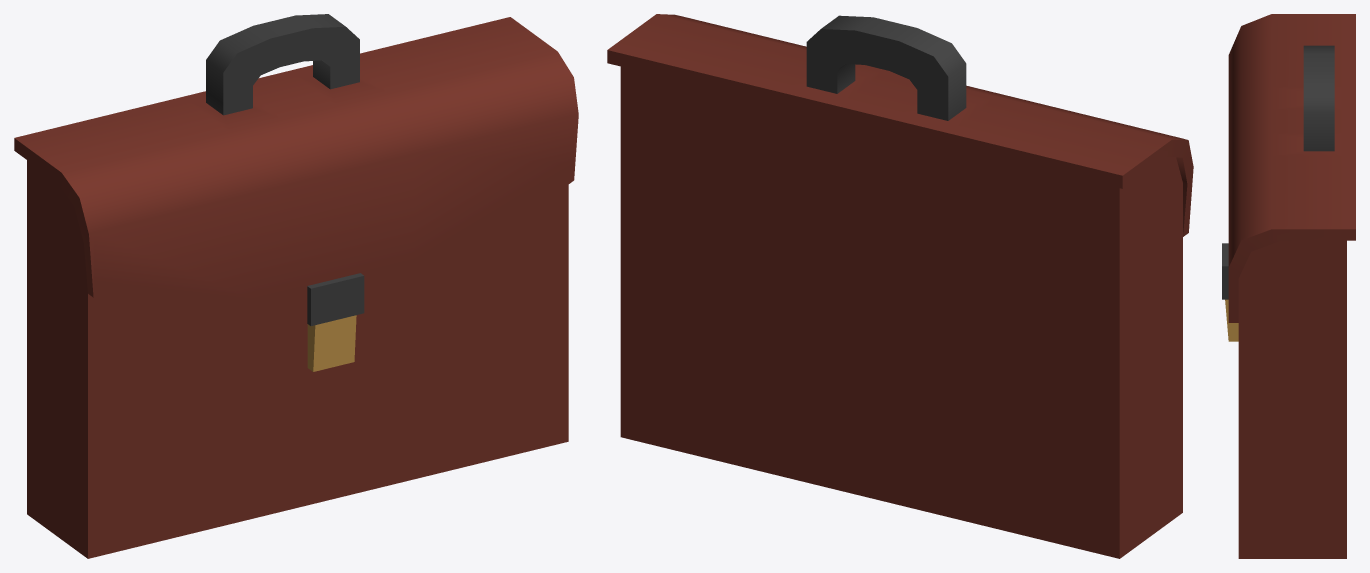
The model's file is Breifcase.fbx.
3 views of the same model, side by side, from view 1: azimuth 30°, elevation 25°; view 2: azimuth 150°, elevation 25°; view 3: azimuth 270°, elevation 25° (orthographic). The views are drawn at different scales.
Visible parts, largest first — view 1: Briefcase; view 2: Briefcase; view 3: Briefcase.
Part boxes in pixels (box(x1,y1,x2,y2)): Briefcase: box(14, 14, 578, 558); Briefcase: box(607, 14, 1193, 558); Briefcase: box(1222, 14, 1355, 558).
Size of the model in its own units: 83.93 by 71.13 by 22.04.
